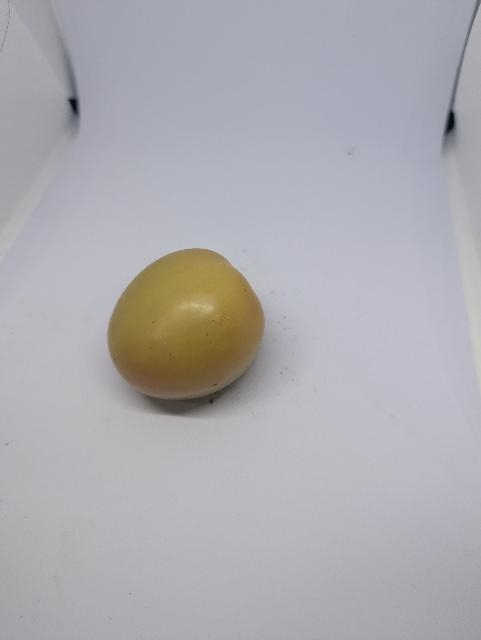turning: (101, 240, 275, 405)
